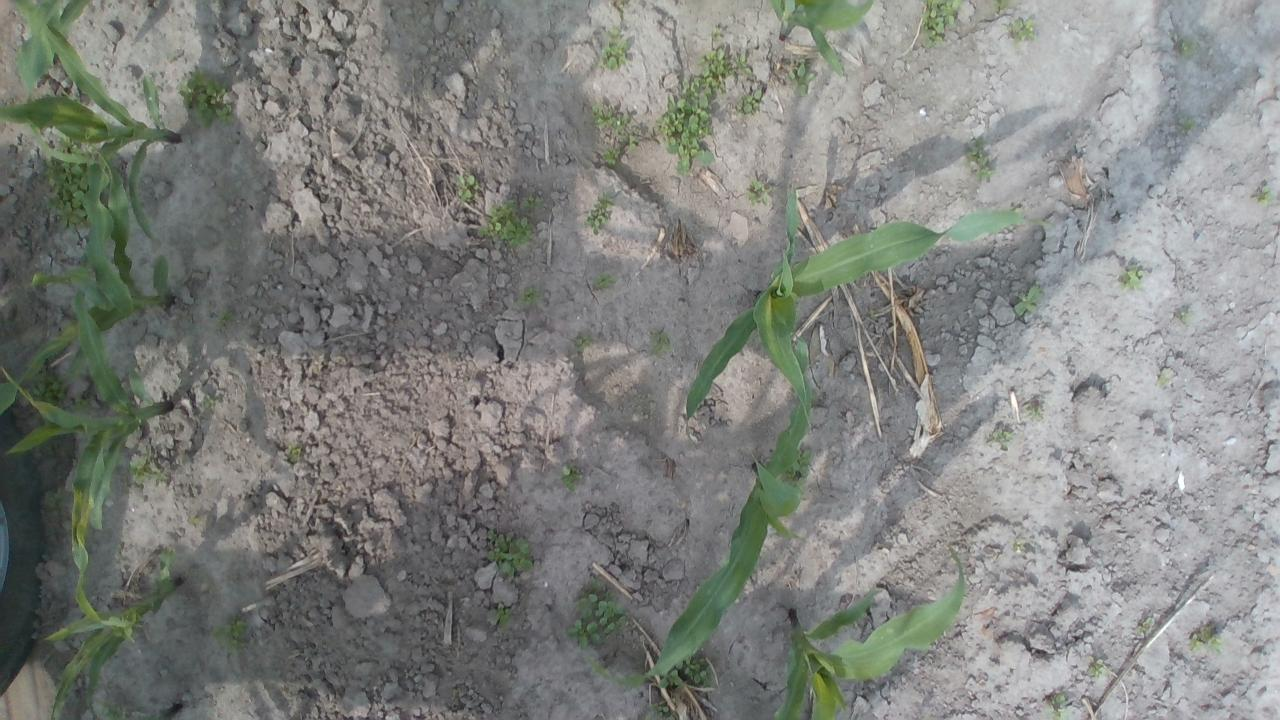Maize: (684, 190, 1046, 432), (616, 339, 818, 698), (8, 285, 170, 629), (0, 153, 172, 418), (0, 0, 180, 250), (770, 547, 967, 720), (35, 552, 185, 720), (14, 0, 92, 160), (768, 0, 878, 80), (128, 702, 184, 720)
Weeds: (655, 77, 726, 178), (42, 133, 92, 232), (562, 579, 627, 648), (177, 66, 236, 130), (480, 199, 534, 250), (590, 104, 641, 153), (486, 528, 534, 578), (19, 361, 67, 410), (920, 0, 963, 48), (210, 614, 250, 654), (964, 138, 1000, 182), (596, 26, 628, 70), (128, 446, 166, 483), (676, 654, 715, 688), (696, 46, 735, 77), (584, 194, 614, 234), (789, 58, 816, 97), (1190, 629, 1224, 657), (1008, 16, 1036, 48), (66, 390, 96, 418), (1014, 286, 1040, 318), (454, 173, 479, 201), (1118, 266, 1146, 290), (745, 180, 772, 204), (559, 463, 583, 490), (44, 486, 74, 507), (738, 88, 762, 114), (648, 332, 673, 356), (215, 303, 238, 329), (796, 446, 814, 479), (1046, 693, 1068, 720), (658, 668, 684, 688), (1251, 184, 1272, 208), (590, 270, 616, 288), (648, 701, 672, 720), (514, 288, 542, 304), (95, 699, 116, 720), (1086, 658, 1106, 680), (1176, 38, 1200, 56), (602, 146, 622, 166), (990, 431, 1010, 450), (495, 606, 512, 628), (522, 194, 546, 209), (734, 55, 751, 76), (574, 334, 592, 351), (1138, 617, 1154, 636), (1180, 117, 1196, 134), (1026, 404, 1044, 419), (989, 0, 1010, 11), (1178, 311, 1193, 324), (712, 24, 722, 42), (203, 394, 214, 408), (287, 444, 298, 458), (1157, 374, 1170, 385), (1014, 540, 1024, 550), (8, 196, 17, 206)
